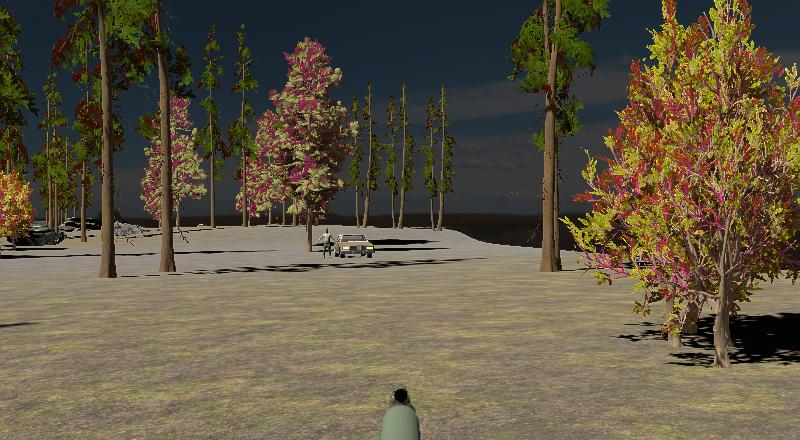Human: (316, 230, 335, 259)
Tank: (7, 221, 67, 247)
car: (334, 232, 378, 260)
